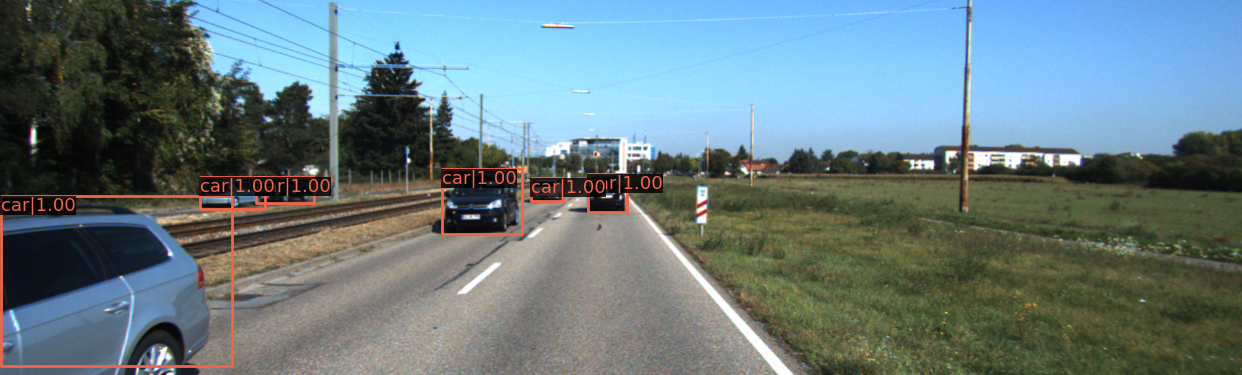car: (1, 205, 251, 375), (444, 171, 522, 234), (203, 179, 266, 210), (255, 178, 316, 205), (589, 175, 627, 213), (532, 179, 564, 204)
